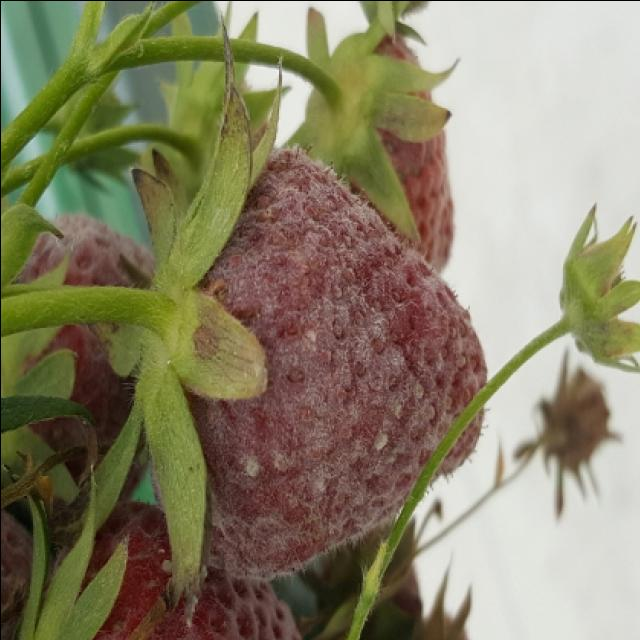Powdery Mildew Fruit: (144, 140, 488, 618), (12, 217, 158, 541), (24, 504, 307, 640)
